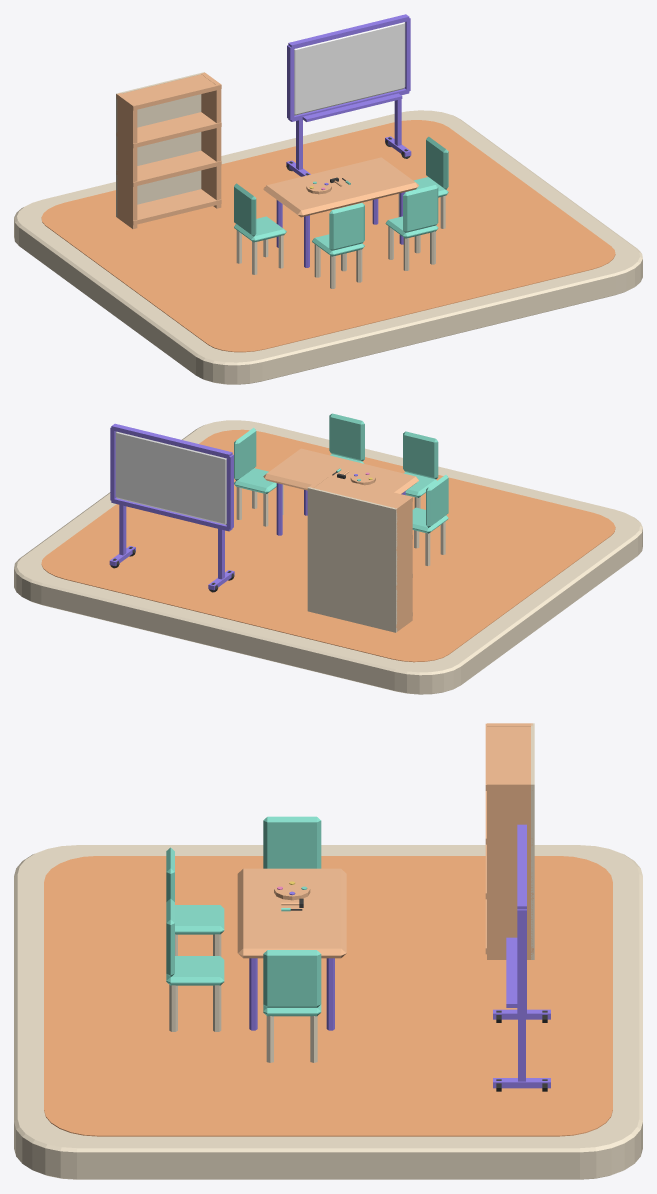
The picture shows the model from 3 angles, top to bottom: view 1: azimuth 30°, elevation 25°; view 2: azimuth 150°, elevation 25°; view 3: azimuth 270°, elevation 25°; orthographic projection. The views are drawn at different scales.
Parts seen in each view (by area): view 1: COM-02 Floor Surface, COM-01 Rounded Base Direct, Writing surface, Rounded table top, Back, Side, Side.001, Shelf.003, Shelf.001, Shelf.002, Shelf, Backrest.002 (+7 smaller); view 2: COM-02 Floor Surface, COM-01 Rounded Base Direct, Back, Writing surface, Rounded table top, Side, Backrest.002, Backrest.003, Shelf.003, Frame rail.001, Backrest, Backrest.001 (+6 smaller); view 3: COM-02 Floor Surface, COM-01 Rounded Base Direct, Rounded table top, Side.001, Backrest.001, Backrest, Shelf.003, Seat.003, Seat.002, Frame upright.001, Back, Frame rail.001 (+4 smaller).
Part boxes in pixels (x1,y1,x2,y2): COM-02 Floor Surface: (41, 120, 615, 352); COM-01 Rounded Base Direct: (14, 110, 642, 384); Writing surface: (294, 22, 405, 115); Rounded table top: (263, 157, 418, 217); Back: (116, 72, 204, 217); Side: (117, 93, 137, 228); Side.001: (201, 72, 221, 208); Shelf.003: (116, 74, 221, 110); Shelf.001: (116, 150, 221, 186); Shelf.002: (116, 112, 221, 148); Shelf: (117, 189, 221, 225); Backrest.002: (329, 203, 364, 250); COM-02 Floor Surface: (41, 429, 615, 662); COM-01 Rounded Base Direct: (14, 420, 642, 694); Back: (307, 487, 397, 632); Writing surface: (115, 431, 226, 524); Rounded table top: (263, 448, 418, 493); Side: (393, 496, 412, 631); Backrest.002: (403, 431, 438, 479); Backrest.003: (329, 413, 364, 461); Shelf.003: (314, 475, 412, 512); Frame rail.001: (111, 423, 232, 458); Backrest: (426, 475, 448, 527); Backrest.001: (234, 427, 256, 480); COM-02 Floor Surface: (44, 856, 612, 1136); COM-01 Rounded Base Direct: (14, 845, 642, 1179); Rounded table top: (237, 868, 346, 958); Side.001: (487, 781, 532, 959); Backrest.001: (263, 950, 321, 1007); Backrest: (263, 816, 321, 868); Shelf.003: (485, 723, 532, 790); Seat.003: (166, 956, 224, 985); Seat.002: (175, 905, 224, 934); Frame upright.001: (517, 909, 526, 1013); Back: (531, 723, 534, 959); Frame rail.001: (517, 824, 526, 909).
Size of the model in its own units: 6 by 2.04 by 5.2.
1 material, 1 textured.
